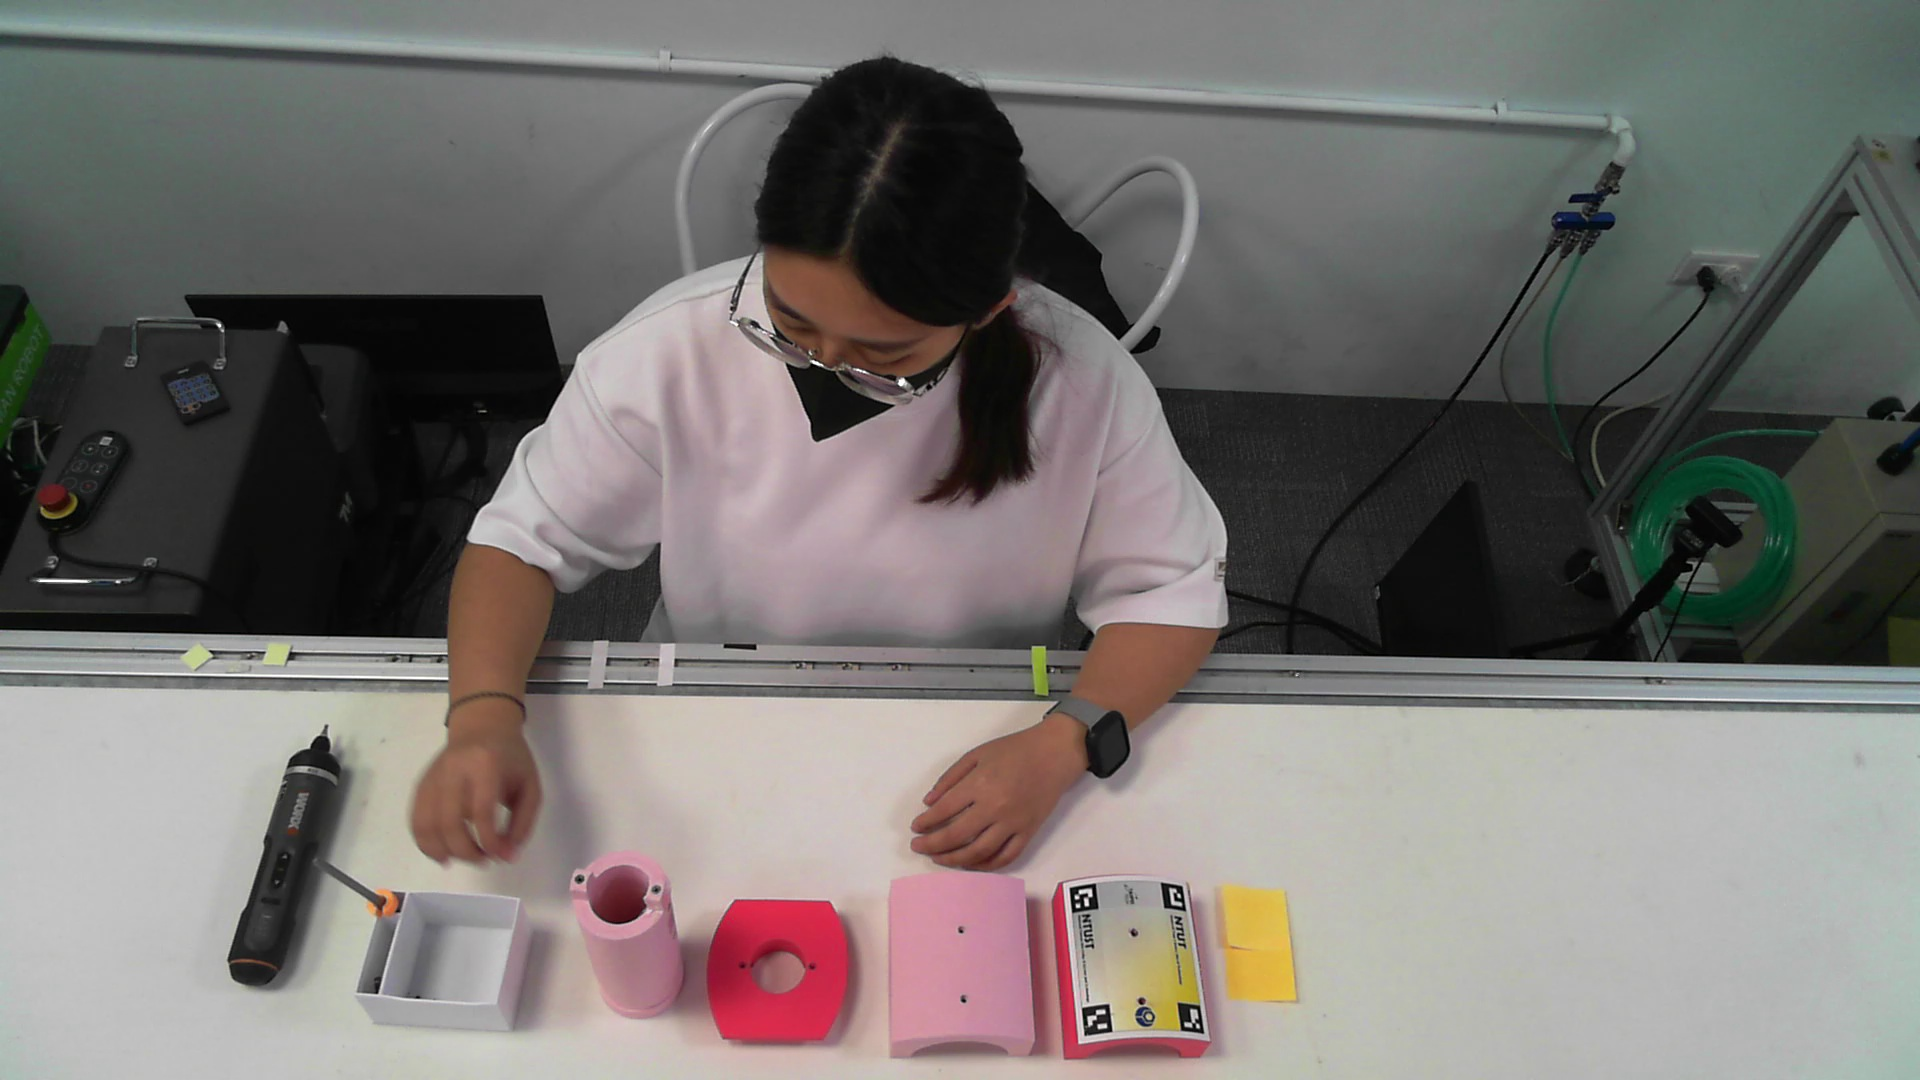brush: (319, 849, 397, 914)
part_A: (564, 846, 688, 1017)
part_B: (707, 897, 846, 1043)
part_C: (885, 867, 1040, 1057)
part_D: (1051, 873, 1209, 1057)
scewr_driver: (233, 714, 337, 997)
scews_box: (357, 884, 527, 1039)
stickers: (1221, 879, 1300, 1008)
